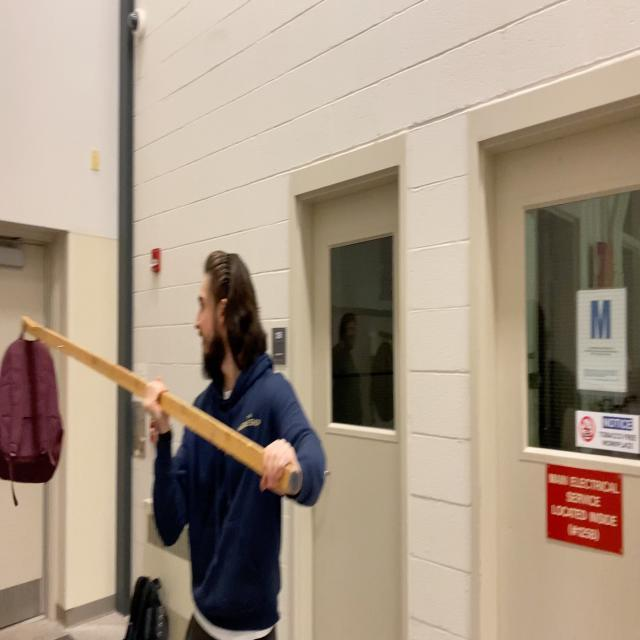Backpacks: (2, 336, 64, 486)
